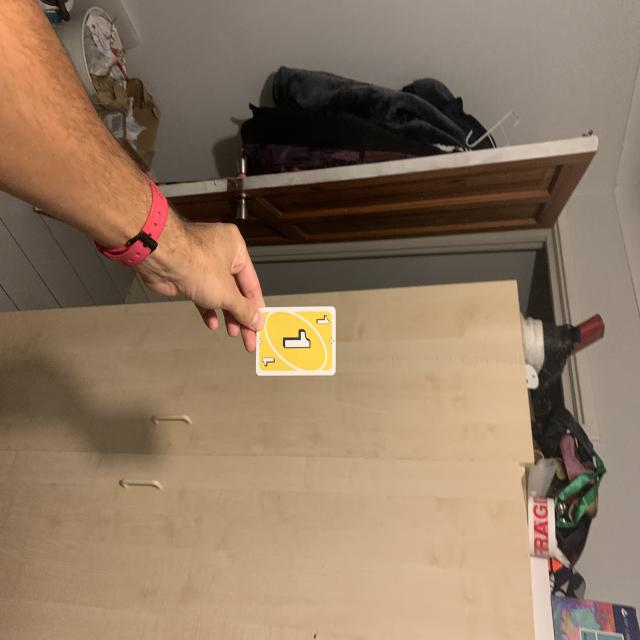lyellow-1: (314, 313, 332, 329)
